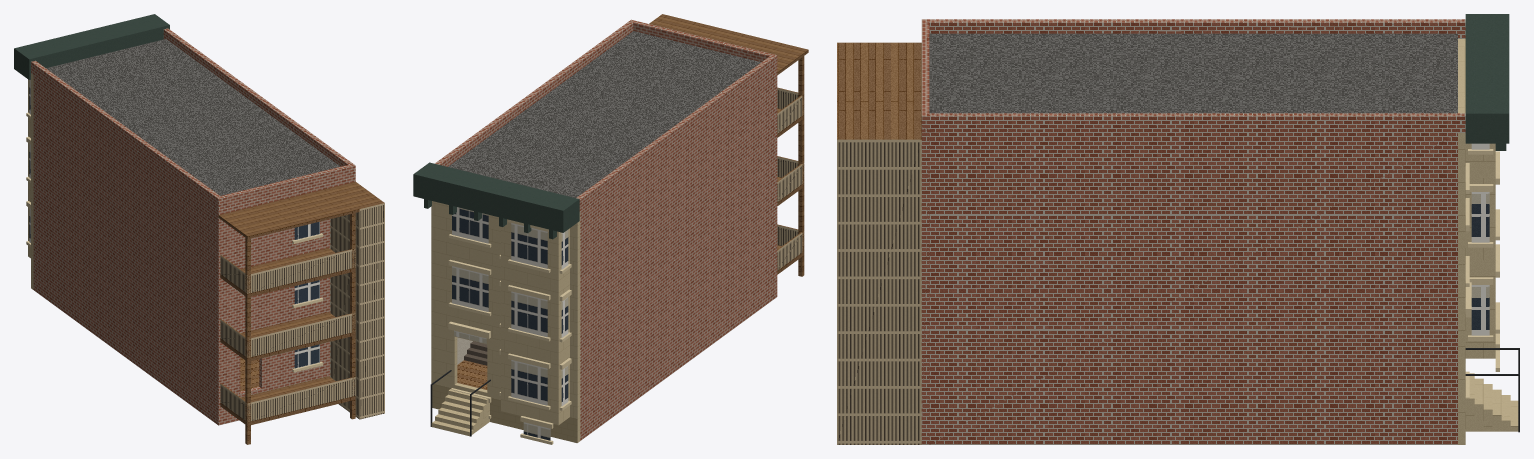
The model's file is three_flat_buff_2.glb.
3 renders of one model, left to right at view 1: azimuth 30°, elevation 25°; view 2: azimuth 150°, elevation 25°; view 3: azimuth 270°, elevation 25°, orthographic. The views are drawn at different scales.
Parts seen in each view (by area): view 1: three_flat_buff_2; view 2: three_flat_buff_2; view 3: three_flat_buff_2.
Part boxes in pixels (<box>): three_flat_buff_2: <box>14,14,384,444</box>; three_flat_buff_2: <box>413,14,808,444</box>; three_flat_buff_2: <box>837,14,1519,444</box>.
Bounding box in the file's own units: 7.8 × 12.15 × 22.6.
13 materials, 13 textured.
